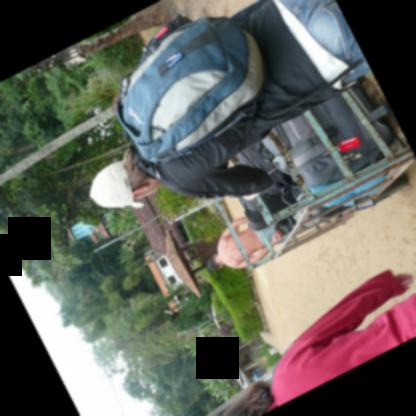backpack: (115, 14, 269, 168)
suitcase: (276, 76, 394, 196), (236, 142, 294, 194), (255, 133, 287, 172), (243, 197, 267, 230), (310, 204, 351, 220), (272, 216, 295, 236)
